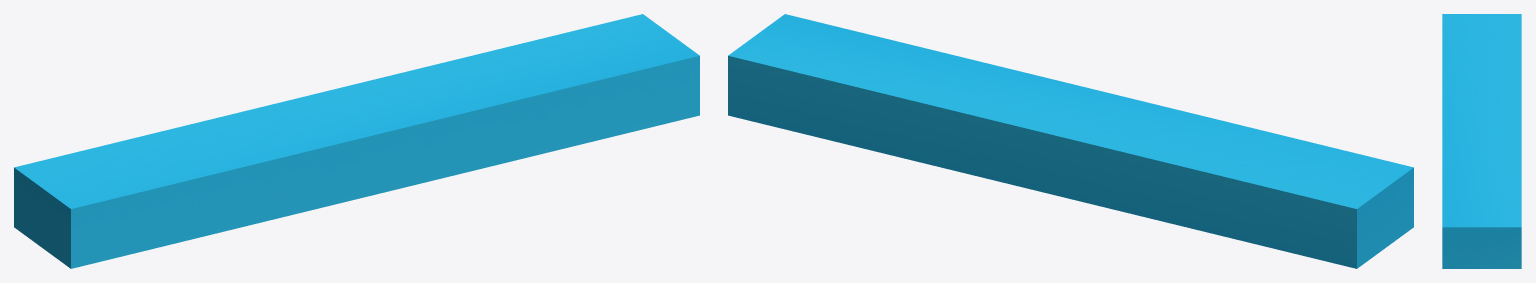
File: wall_base.fbx
The picture shows the model from 3 angles, left to right: view 1: azimuth 30°, elevation 25°; view 2: azimuth 150°, elevation 25°; view 3: azimuth 270°, elevation 25°; orthographic projection. The views are drawn at different scales.
Visible parts, largest first — view 1: wall_base; view 2: wall_base; view 3: wall_base.
Boxes of the visible parts, x1,y1,x2,y2 form: wall_base: (14,14,699,268); wall_base: (728,14,1413,268); wall_base: (1442,14,1521,268).
Size of the model in its own units: 2 by 0.1817 by 0.314.
